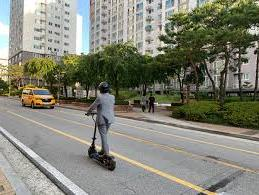helmet: (85, 80, 118, 173)
